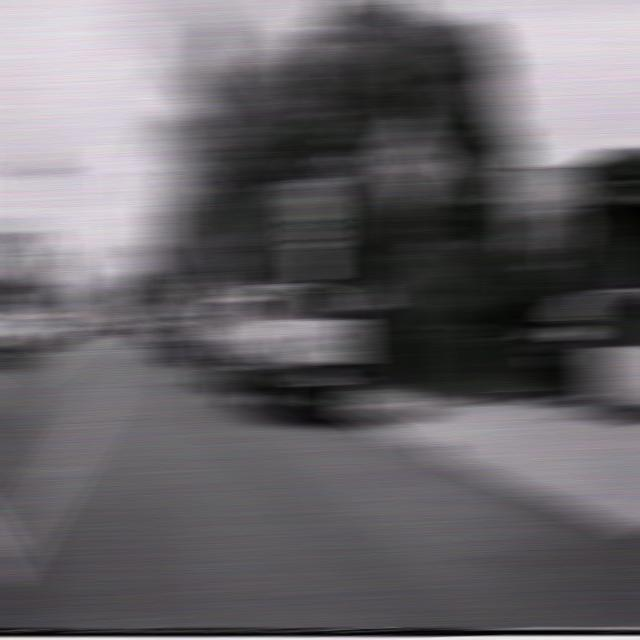speedLimit25: (287, 176, 338, 252)
